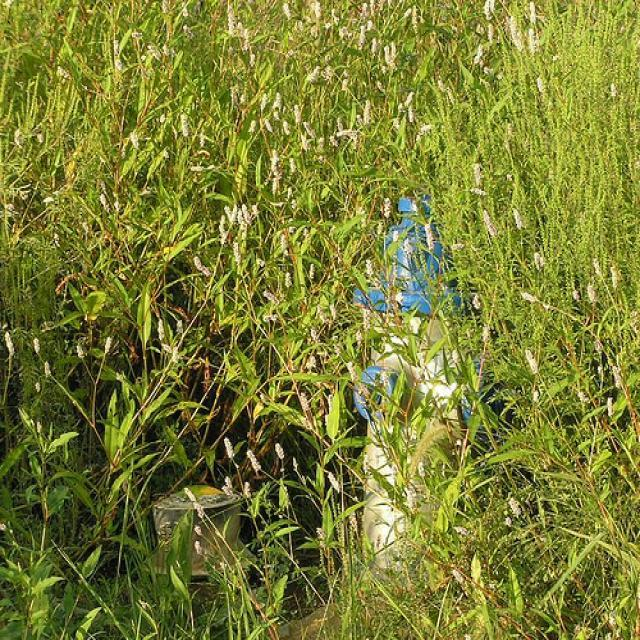fire_hydrant: (346, 182, 518, 587)
